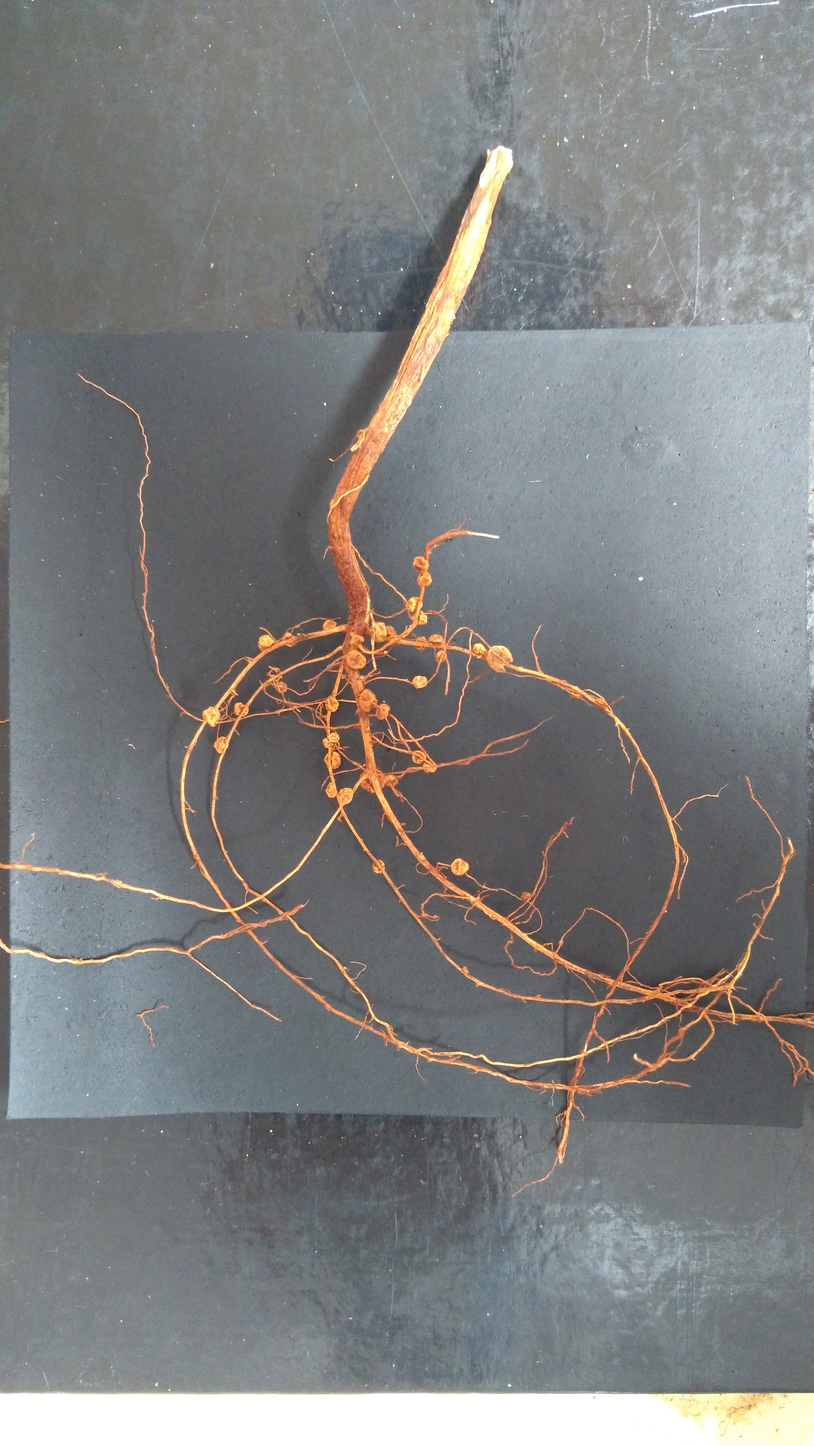nodule: (485, 641, 514, 674), (357, 765, 388, 795), (358, 687, 377, 715), (345, 649, 367, 671), (449, 856, 470, 878), (201, 705, 221, 728), (369, 620, 387, 644), (336, 785, 355, 807), (323, 750, 341, 770), (375, 701, 391, 723), (414, 571, 434, 588), (213, 735, 230, 755), (405, 595, 424, 612), (411, 556, 429, 573), (324, 696, 340, 713), (383, 773, 400, 789), (257, 633, 275, 648), (411, 749, 427, 765), (233, 702, 250, 717), (412, 675, 428, 690), (371, 858, 387, 873), (281, 632, 295, 649), (421, 760, 438, 774), (414, 635, 427, 652), (325, 781, 337, 799), (472, 642, 487, 656), (428, 633, 444, 646), (416, 610, 428, 627), (384, 625, 397, 640), (322, 619, 338, 631), (435, 649, 447, 664), (327, 731, 341, 743), (350, 634, 365, 645), (568, 688, 583, 699), (321, 737, 333, 749), (277, 681, 288, 694), (519, 891, 532, 902), (596, 697, 605, 705)
